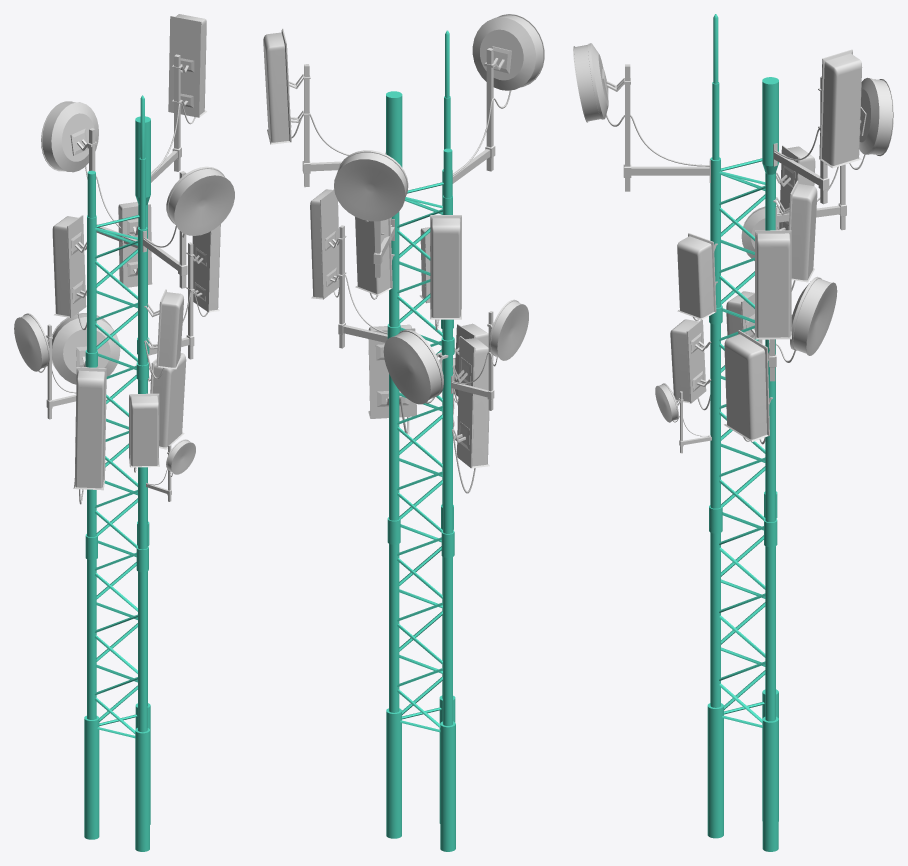
Rendered from SM_Base_Station_1.FBX.
The picture shows the model from 3 angles, left to right: view 1: azimuth 30°, elevation 25°; view 2: azimuth 150°, elevation 25°; view 3: azimuth 270°, elevation 25°; orthographic projection. The views are drawn at different scales.
Visible parts, largest first — view 1: Base_Station_1.002; view 2: Base_Station_1.002; view 3: Base_Station_1.002.
Boxes of the visible parts, x1,y1,x2,y2 form: Base_Station_1.002: (14, 14, 234, 851); Base_Station_1.002: (263, 14, 544, 851); Base_Station_1.002: (573, 14, 893, 851).
Size of the model in its own units: 188 by 650 by 227.
